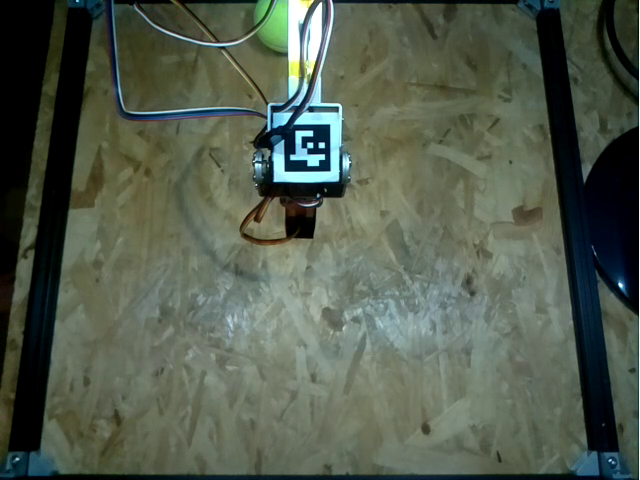tennis_ball: (253, 1, 288, 53)
